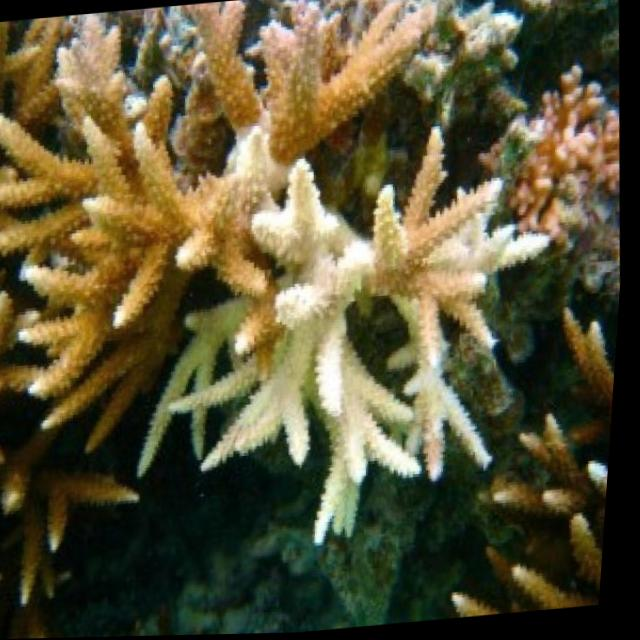Bleached Coral: (149, 127, 551, 558)
Healthy Coral: (0, 171, 206, 512), (161, 0, 446, 173), (488, 409, 618, 616), (500, 65, 632, 245), (558, 305, 623, 450), (79, 25, 122, 91)
